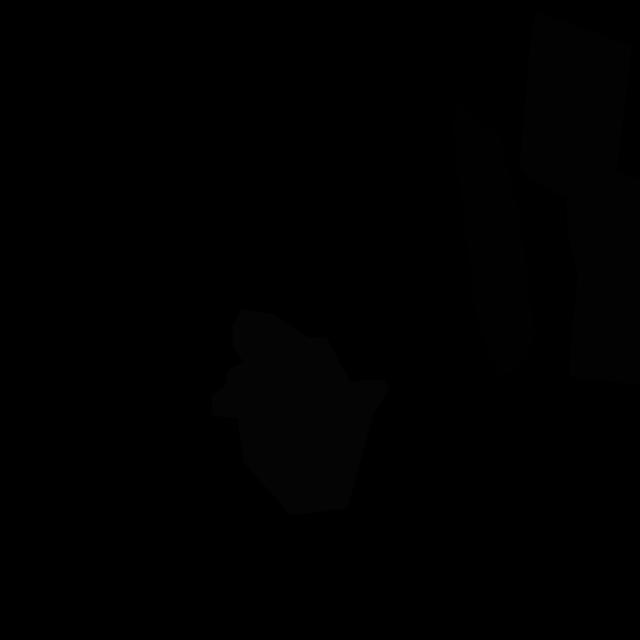cardboard: (519, 12, 632, 199), (565, 158, 640, 385)
rigid_plastic: (452, 102, 535, 377)
soft_plastic: (211, 309, 389, 515)
